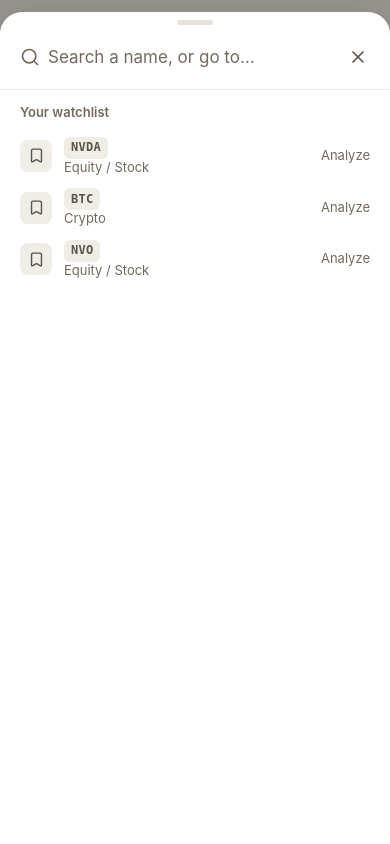
Test case: CommandPalette › doesn't list an exact watchlist match twice
Type "nvda" into the dropdown at (189, 57), box [48,37,330,77]
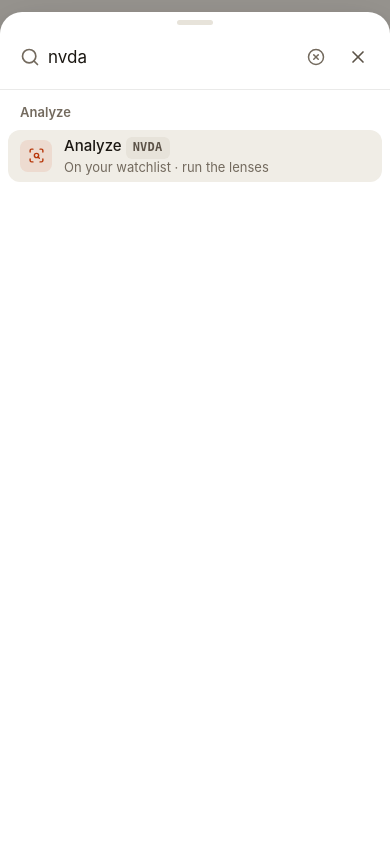
Result: the number of options is 1 at [8,130,382,182]
Result: the option shows "On your watchlist" at [8,130,382,182]
